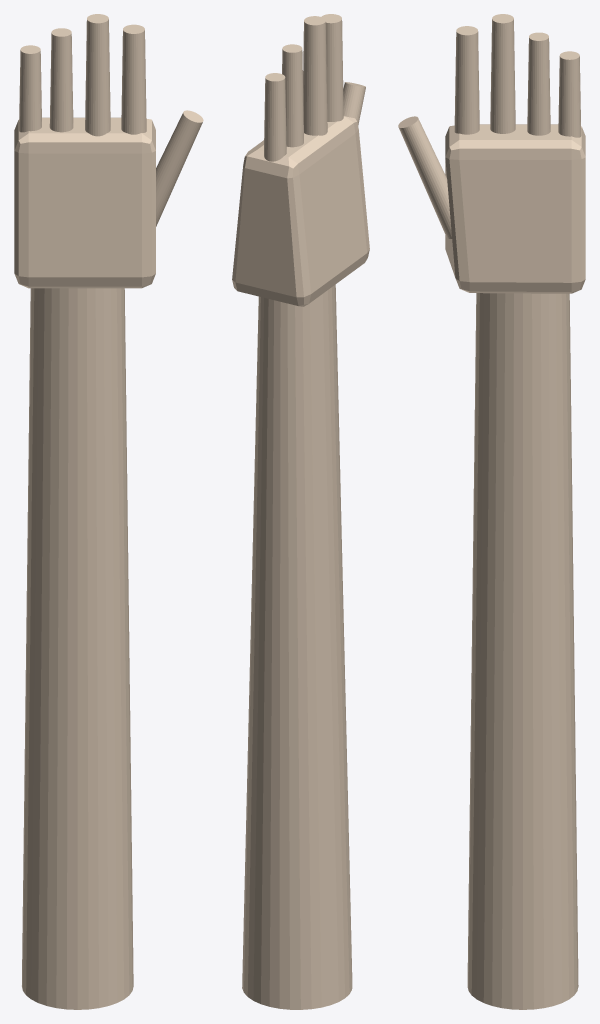
Rendered from kasi.fbx.
3 renders of one model, left to right at view 1: azimuth 90°, elevation 25°; view 2: azimuth 150°, elevation 25°; view 3: azimuth 270°, elevation 25°, orthographic.
Visible parts, largest first — view 1: Cylinder, Cube, Cylinder.003, Cylinder.004, Cylinder.002, Cylinder.005, Cylinder.001; view 2: Cylinder, Cube, Cylinder.003, Cylinder.002, Cylinder.001, Cylinder.004, Cylinder.005; view 3: Cylinder, Cube, Cylinder.003, Cylinder.004, Cylinder.005, Cylinder.002, Cylinder.001.
Boxes of the visible parts, <box> form: Cylinder: <box>22,288,133,1009</box>; Cube: <box>14,117,155,288</box>; Cylinder.003: <box>85,14,110,136</box>; Cylinder.004: <box>121,24,146,134</box>; Cylinder.002: <box>49,28,73,132</box>; Cylinder.005: <box>156,110,203,226</box>; Cylinder.001: <box>19,45,41,132</box>; Cylinder: <box>242,284,352,1009</box>; Cube: <box>232,115,369,306</box>; Cylinder.003: <box>303,16,327,135</box>; Cylinder.002: <box>282,44,303,147</box>; Cylinder.001: <box>264,73,286,161</box>; Cylinder.004: <box>321,14,343,121</box>; Cylinder.005: <box>343,82,365,125</box>; Cylinder: <box>467,293,578,1009</box>; Cube: <box>445,124,585,293</box>; Cylinder.003: <box>490,14,515,133</box>; Cylinder.004: <box>454,26,479,134</box>; Cylinder.005: <box>398,116,451,238</box>; Cylinder.002: <box>527,32,550,135</box>; Cylinder.001: <box>558,51,581,137</box>.
Size of the model in its own units: 200 by 1917 by 338.
